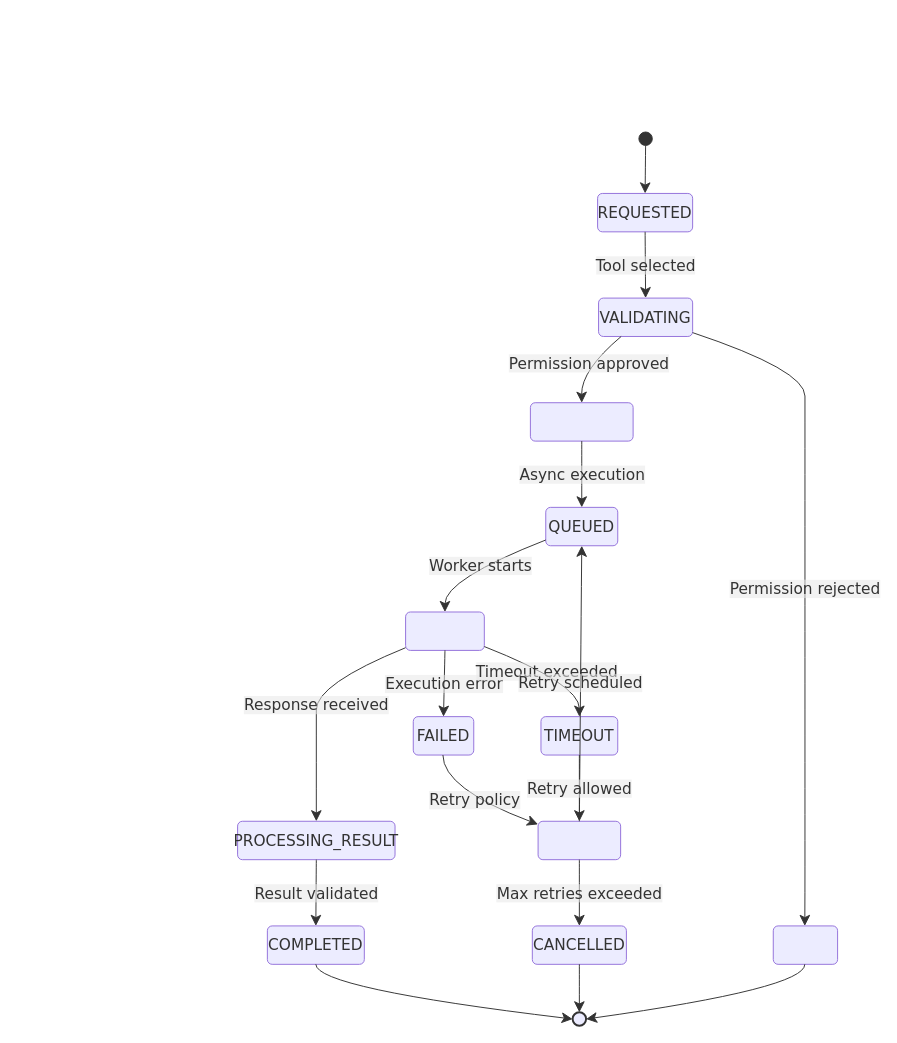
This 897x1043 diagram has some shape labels left out. The shapes that lost their labels are listed below. From the top down, each one's box as (x1, y1, x2, y2) in pixels, then its label:
(529, 402, 633, 441): AUTHORIZED
(405, 611, 484, 650): RUNNING
(537, 820, 621, 860): RETRYING
(772, 925, 838, 964): DENIED
